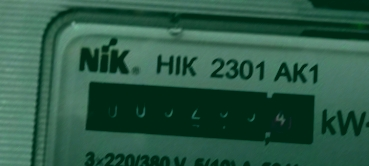0: (102, 93, 119, 120), (131, 93, 146, 118)
2: (186, 94, 201, 120)
3: (214, 93, 229, 119)
4: (271, 100, 287, 127)
5: (241, 96, 257, 123), (158, 93, 174, 119)
screen: (74, 71, 325, 151)
